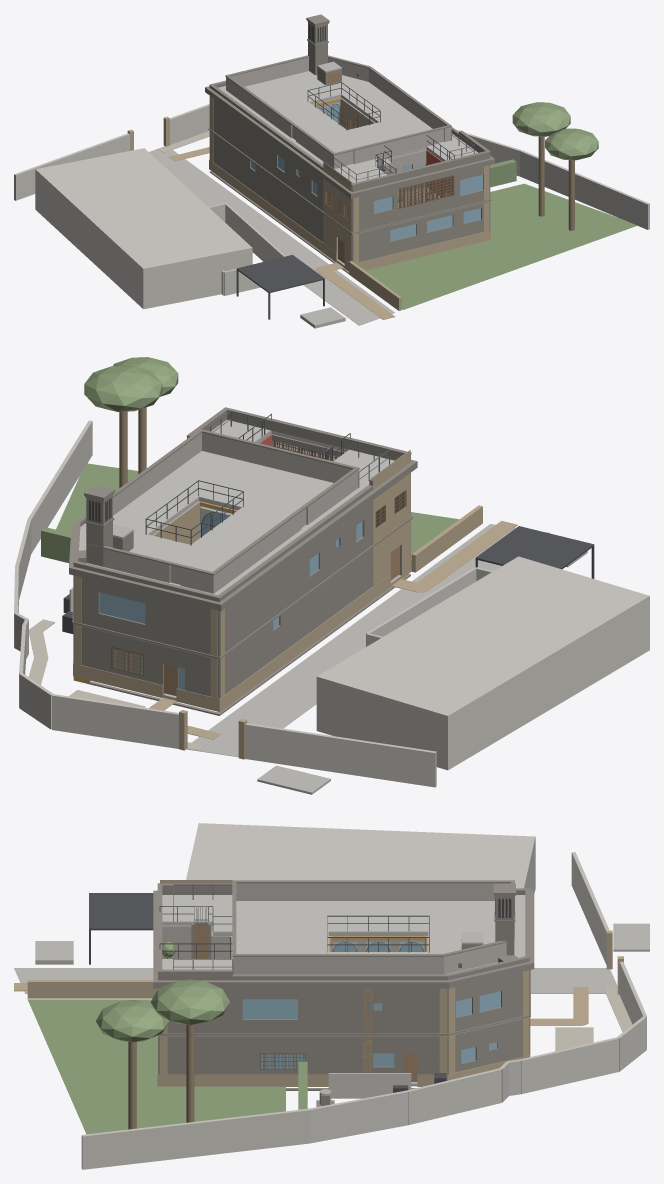
The model's file is taif_house_V9.3.glb.
The picture shows the model from 3 angles, top to bottom: view 1: azimuth 30°, elevation 25°; view 2: azimuth 150°, elevation 25°; view 3: azimuth 270°, elevation 25°; orthographic projection. The views are drawn at different scales.
Parts seen in each view (by area): view 1: chr_site_plaster_old_house, chr_site_foliage_garden, roof_finish_floor, roof_attic_wall, chr_site_plaster_farm_wall_north_east, chr_site_concrete_driveway, gf_outer, ff_outer, chr_base_stone_plinth, roof_cornice, chr_site_steel_old_carport, chr_site_plaster_old_annex (+22 smaller); view 2: chr_site_plaster_old_house, roof_finish_floor, chr_site_plaster_farm_wall_north_east, ff_outer, roof_attic_wall, gf_outer, chr_site_concrete_driveway, chr_site_plaster_farm_wall_north, chr_base_stone_plinth, roof_cornice, chr_base_stone_feature_wall_00, chr_site_steel_old_carport (+25 smaller); view 3: chr_site_plaster_farm_wall_north_east, chr_site_plaster_old_house, roof_finish_floor, chr_site_foliage_garden, roof_attic_wall, gf_outer, ff_outer, roof_cornice, chr_site_concrete_driveway, chr_site_foliage_palm_1_crown, chr_base_stone_plinth, chr_base_stone_quoins (+31 smaller).
Boxes of the visible parts, x1,y1,x2,y2 form: chr_site_plaster_old_house: (35, 148, 252, 309); chr_site_foliage_garden: (365, 183, 637, 309); roof_finish_floor: (218, 71, 477, 183); roof_attic_wall: (226, 57, 451, 168); chr_site_plaster_farm_wall_north_east: (170, 104, 649, 229); chr_site_concrete_driveway: (149, 147, 394, 325); gf_outer: (209, 131, 490, 262); ff_outer: (209, 96, 490, 232); chr_base_stone_plinth: (209, 159, 490, 271); roof_cornice: (205, 86, 494, 198); chr_site_steel_old_carport: (236, 255, 324, 319); chr_site_plaster_old_annex: (208, 203, 285, 295); chr_site_plaster_old_house: (316, 556, 649, 770); roof_finish_floor: (79, 420, 394, 595); chr_site_plaster_farm_wall_north_east: (14, 420, 178, 748); ff_outer: (73, 434, 410, 656); roof_attic_wall: (103, 433, 358, 593); gf_outer: (73, 520, 410, 698); chr_site_concrete_driveway: (186, 524, 549, 757); chr_site_plaster_farm_wall_north: (245, 723, 436, 787); chr_base_stone_plinth: (73, 558, 411, 711); roof_cornice: (69, 459, 417, 611); chr_base_stone_feature_wall_00: (372, 450, 410, 586); chr_site_steel_old_carport: (475, 526, 594, 578); chr_site_plaster_farm_wall_north_east: (81, 961, 646, 1169); chr_site_plaster_old_house: (186, 823, 535, 893); roof_finish_floor: (162, 895, 525, 974); chr_site_foliage_garden: (27, 999, 285, 1134); roof_attic_wall: (232, 883, 510, 974); gf_outer: (158, 1017, 529, 1074); ff_outer: (178, 970, 529, 1033); roof_cornice: (153, 890, 534, 988); chr_site_concrete_driveway: (14, 968, 617, 993); chr_site_foliage_palm_1_crown: (150, 979, 229, 1024); chr_base_stone_plinth: (157, 1036, 530, 1086); chr_base_stone_quoins: (157, 970, 530, 1074).
Size of the model in its own units: 45.39 by 12.83 by 41.5.
